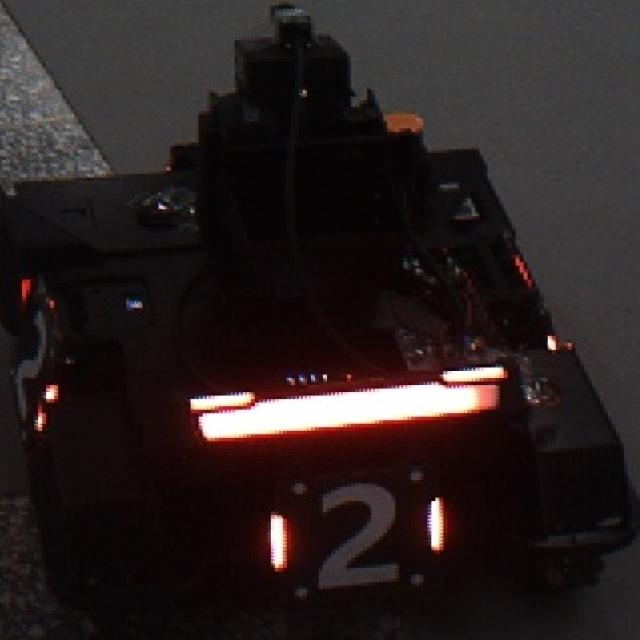R2: (267, 484, 443, 589)
